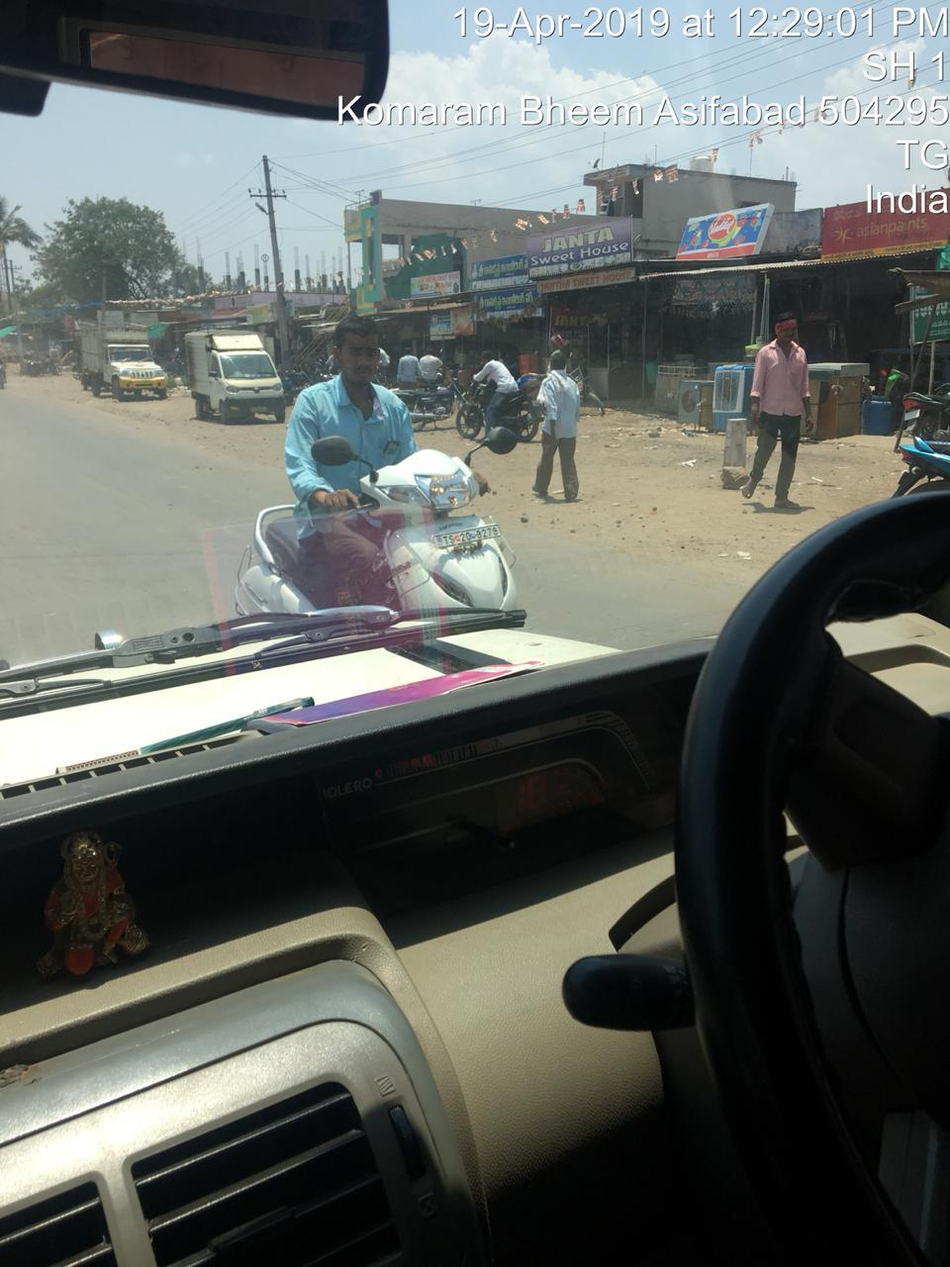without_helmet: (211, 293, 542, 650), (447, 346, 542, 447)
